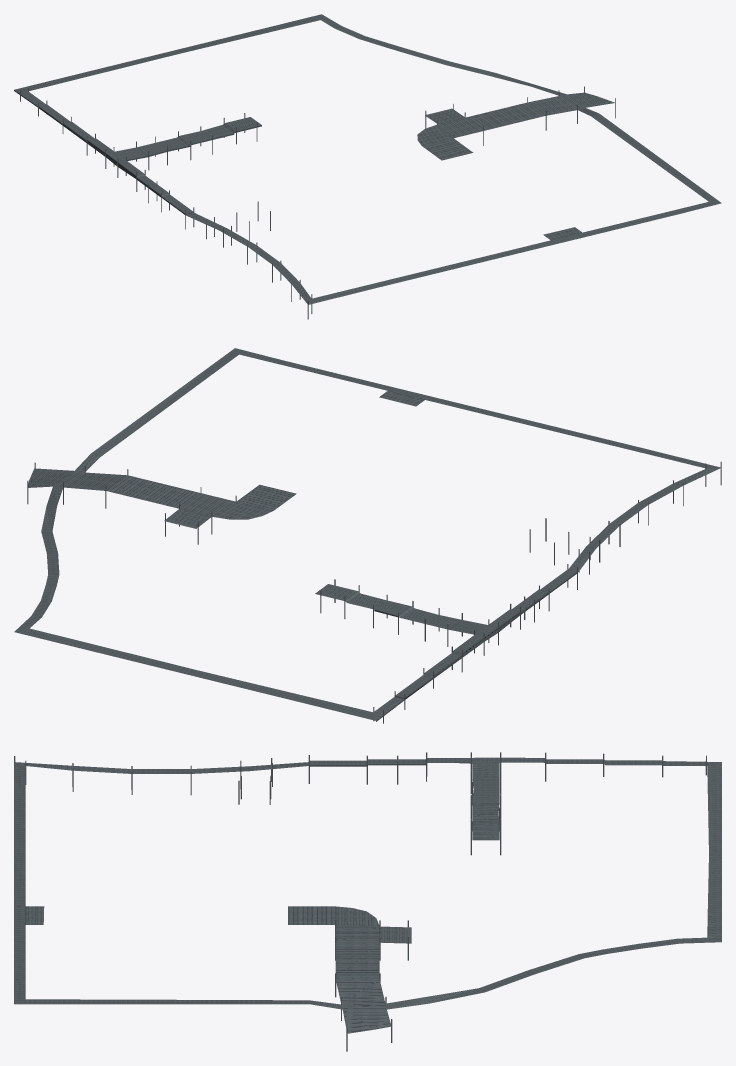
The model's file is lodlandbrdge01_lvs.obj.
The picture shows the model from 3 angles, top to bottom: view 1: azimuth 30°, elevation 25°; view 2: azimuth 150°, elevation 25°; view 3: azimuth 270°, elevation 25°; orthographic projection. The views are drawn at different scales.
Visible parts, largest first — view 1: lodlandbrdge01_lvs; view 2: lodlandbrdge01_lvs; view 3: lodlandbrdge01_lvs.
Boxes of the visible parts, x1,y1,x2,y2 form: lodlandbrdge01_lvs: [14, 14, 721, 319]; lodlandbrdge01_lvs: [14, 348, 721, 723]; lodlandbrdge01_lvs: [14, 752, 721, 1051].
Size of the model in its own units: 211 by 15.67 by 240.
1 material, 1 textured.
